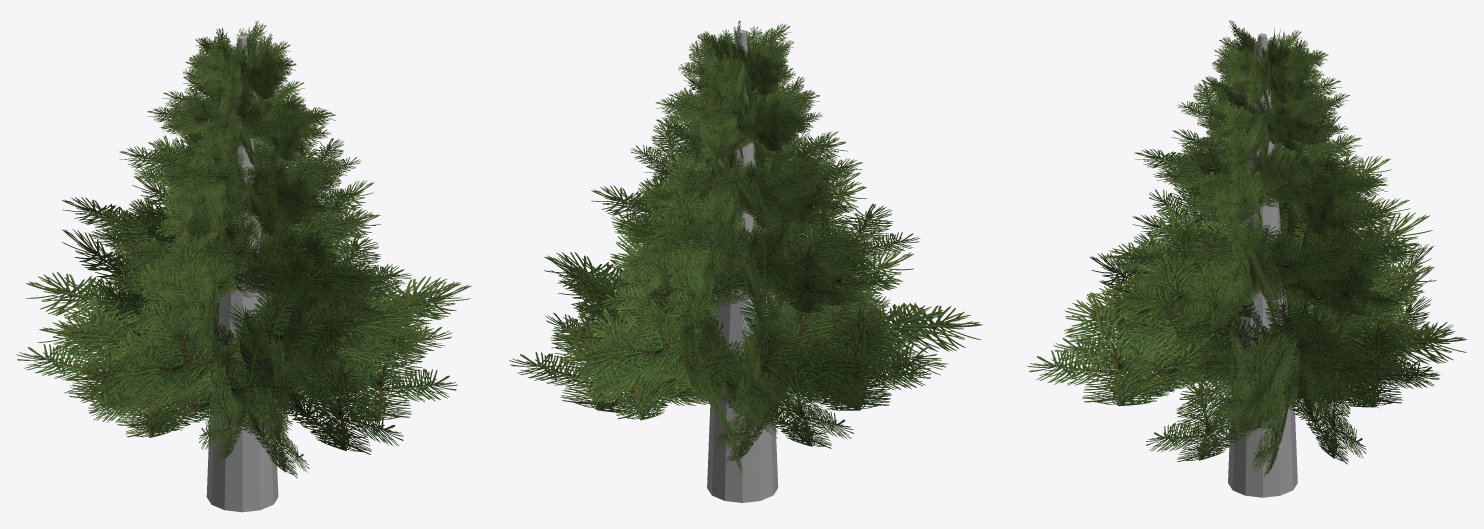
Rendered from SM_Tree.fbx.
3 renders of one model, left to right at view 1: azimuth 30°, elevation 25°; view 2: azimuth 150°, elevation 25°; view 3: azimuth 270°, elevation 25°, orthographic. The views are drawn at different scales.
Parts seen in each view (by area): view 1: MASH1_ReproMesh5; view 2: MASH1_ReproMesh5; view 3: MASH1_ReproMesh5.
Boxes of the visible parts, <box> form: MASH1_ReproMesh5: <box>16,21,471,512</box>; MASH1_ReproMesh5: <box>509,20,982,502</box>; MASH1_ReproMesh5: <box>1027,20,1466,497</box>.
Size of the model in its own units: 743 by 771 by 699.
